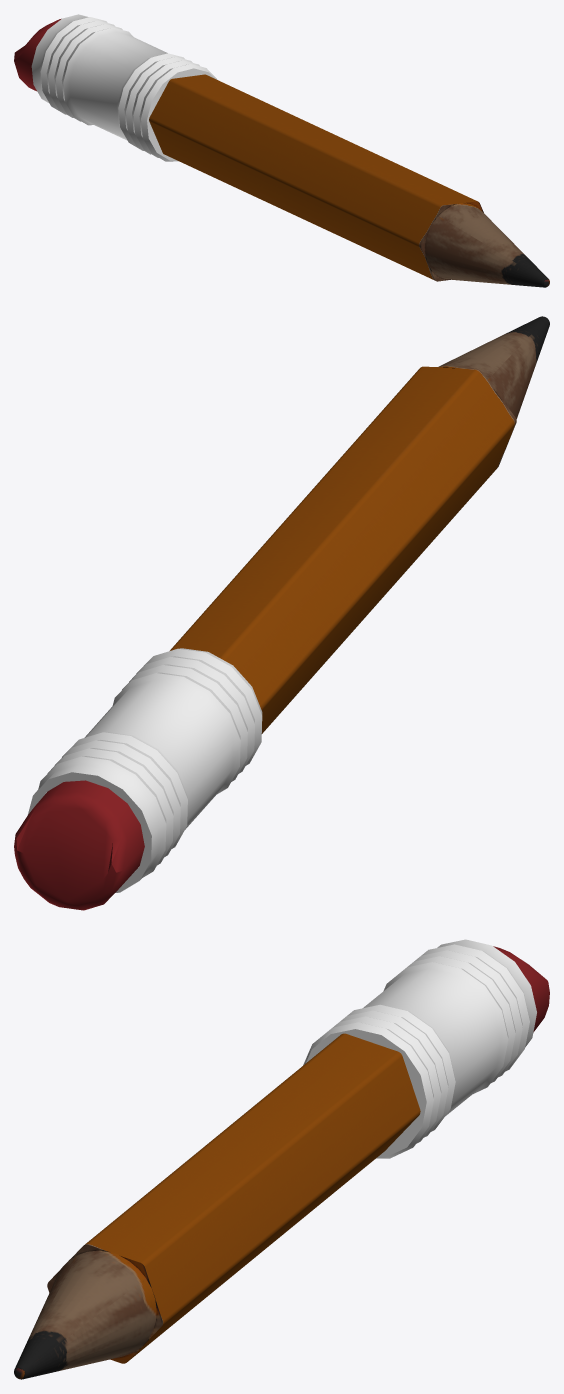
3 views of the same model, one above another, from view 1: azimuth 30°, elevation 25°; view 2: azimuth 150°, elevation 25°; view 3: azimuth 330°, elevation 25° (orthographic). The views are drawn at different scales.
Parts seen in each view (by area): view 1: Da Pencil.001; view 2: Da Pencil.001; view 3: Da Pencil.001.
Boxes of the visible parts, left/top/right/bottom form: Da Pencil.001: left=14, top=14, right=549, bottom=287; Da Pencil.001: left=14, top=316, right=549, bottom=910; Da Pencil.001: left=14, top=939, right=549, bottom=1379.
Size of the model in its own units: 0.0978 by 0.081 by 0.5.
Materials: 2 (1 with a texture image).
